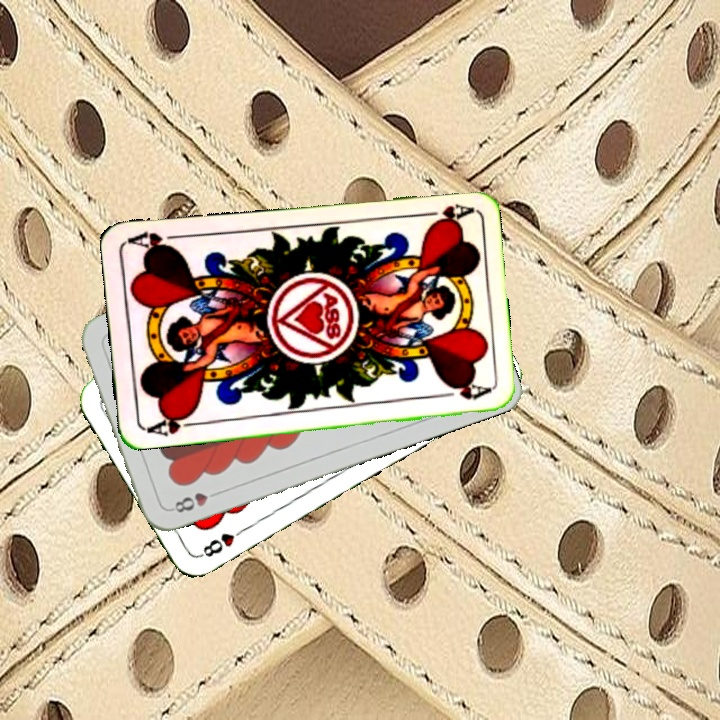H8: (195, 523, 249, 561), (166, 486, 224, 516)
HA: (142, 408, 201, 439), (414, 200, 473, 227)
